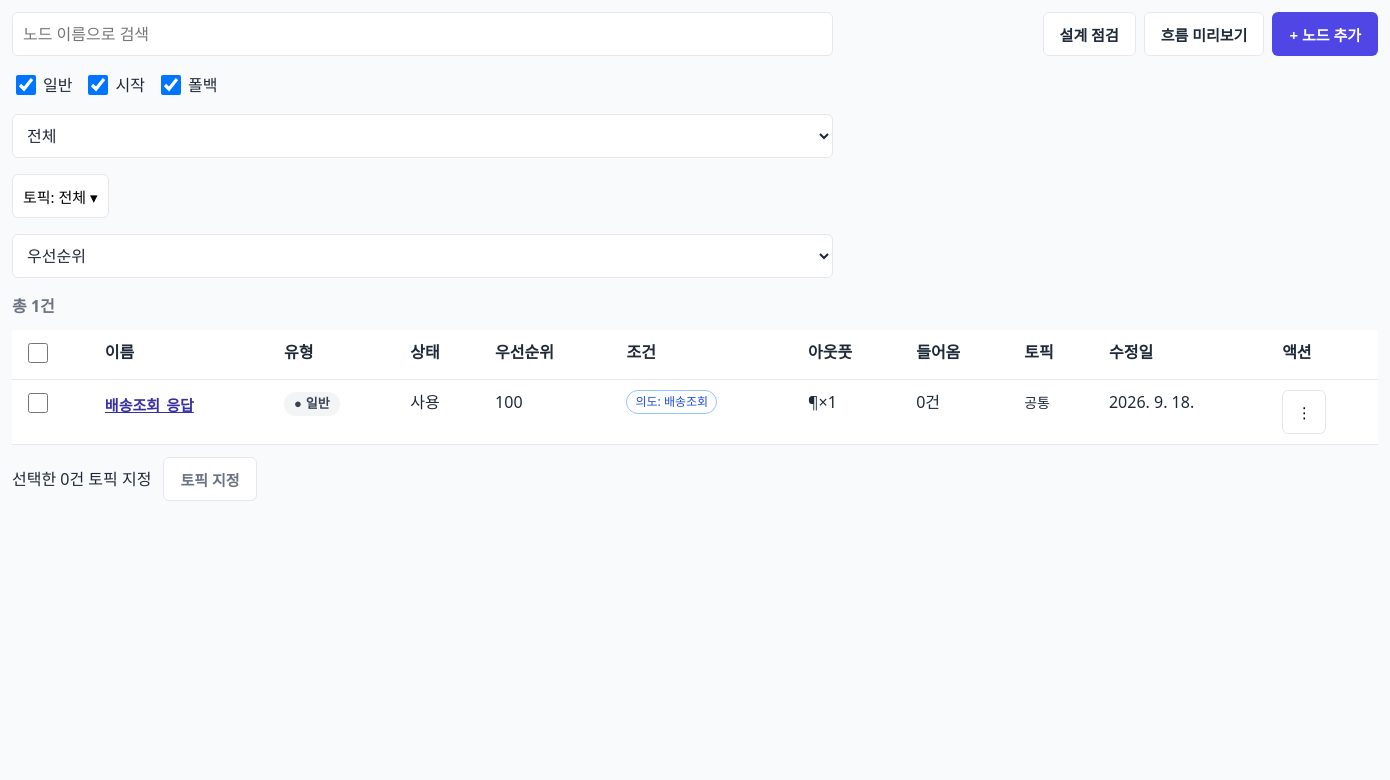
Test: NodesListPage › 복사 시 excludedLegacyApiOutputCount > 0이면 토스트에 이전 형식 API 조건 제외 안내가 함께 뜬다
Expected: the button "배송조회_응답" is shown, top-left (105, 390), bottom-right (194, 419)
Click the button named "배송조회_응답 관리" at (1304, 412), box top-left (1282, 390), bottom-right (1326, 434)
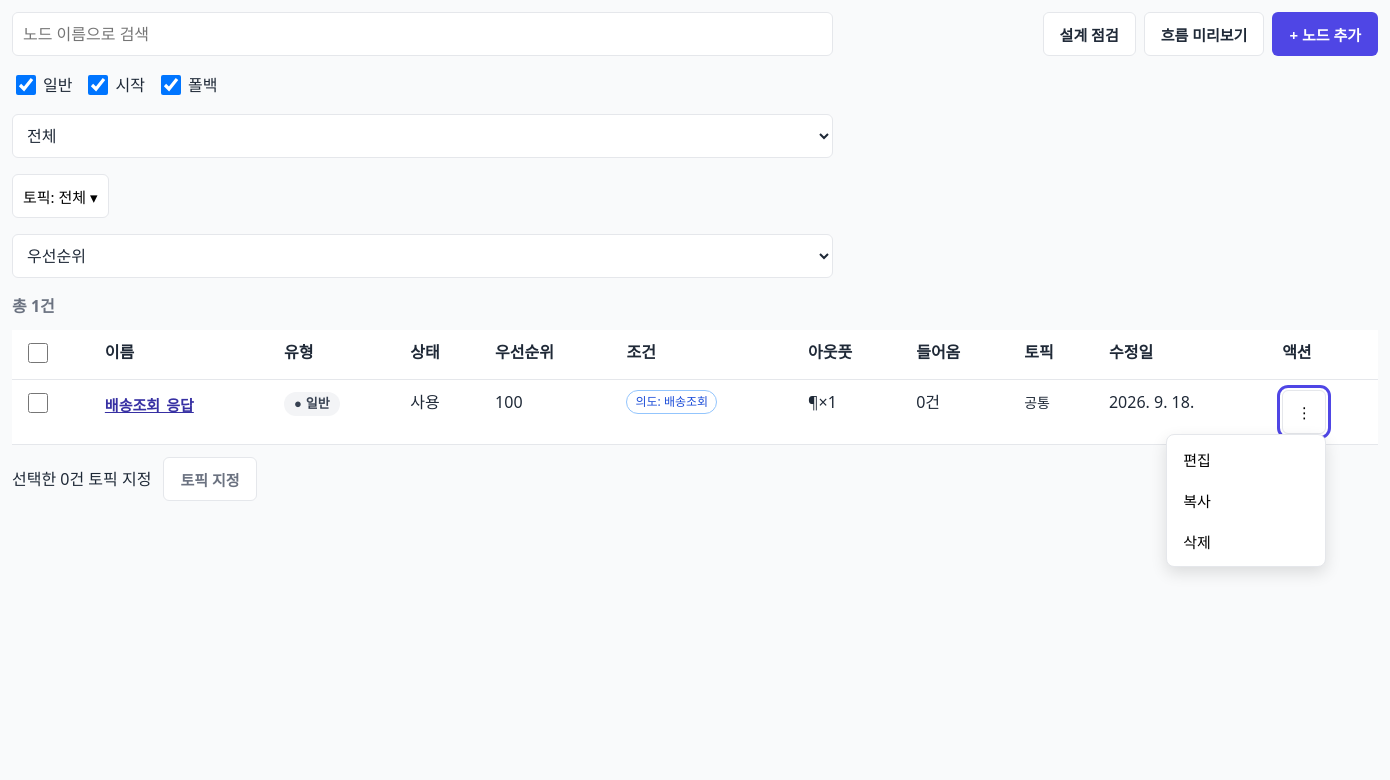
Click the menu item "복사" at (1246, 500), box top-left (1171, 480), bottom-right (1321, 521)
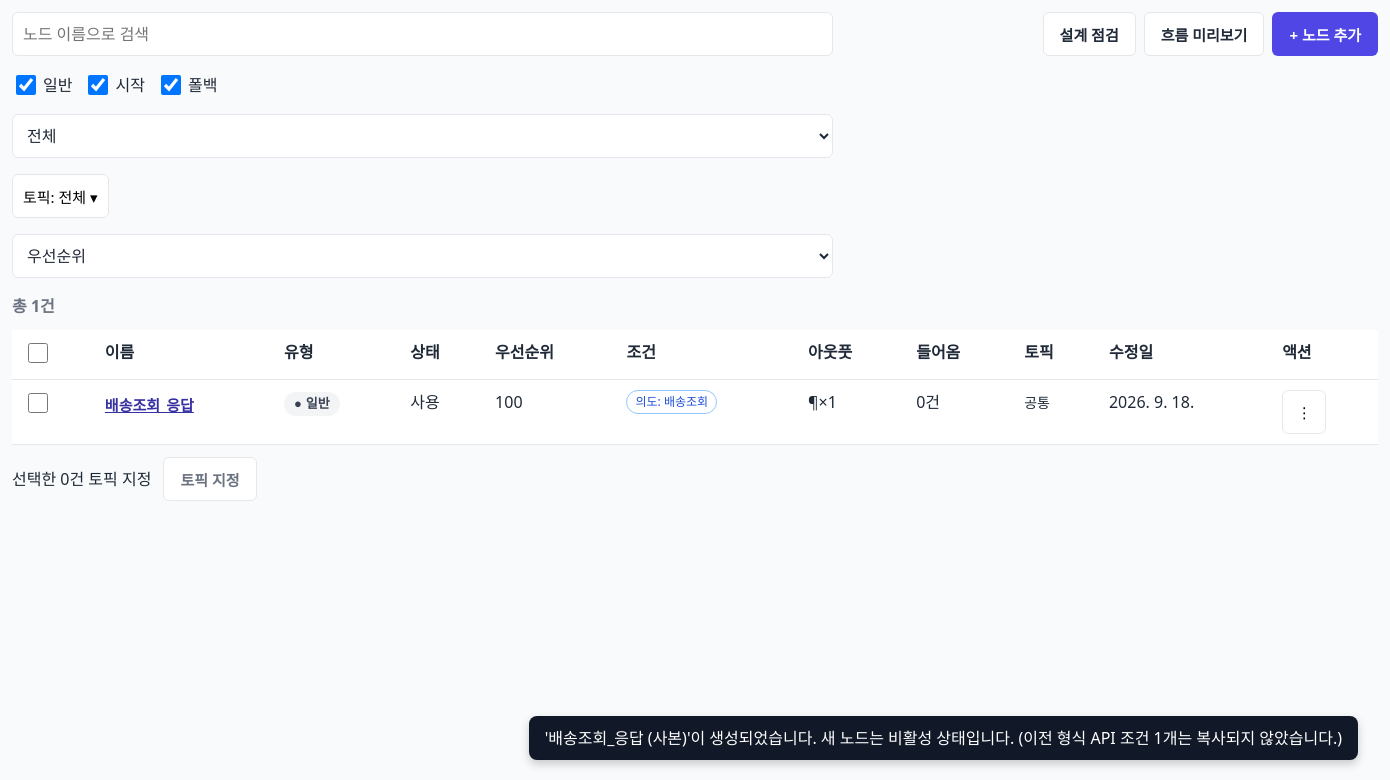
Expected: the text "'배송조회_응답 (사본)'이 생성되었습니다. 새 노드는 비활성 상태입니다. (이전 형식 API 조건 1개는 복사되지 않았습니다.)" is shown, top-left (529, 716), bottom-right (1358, 760)
